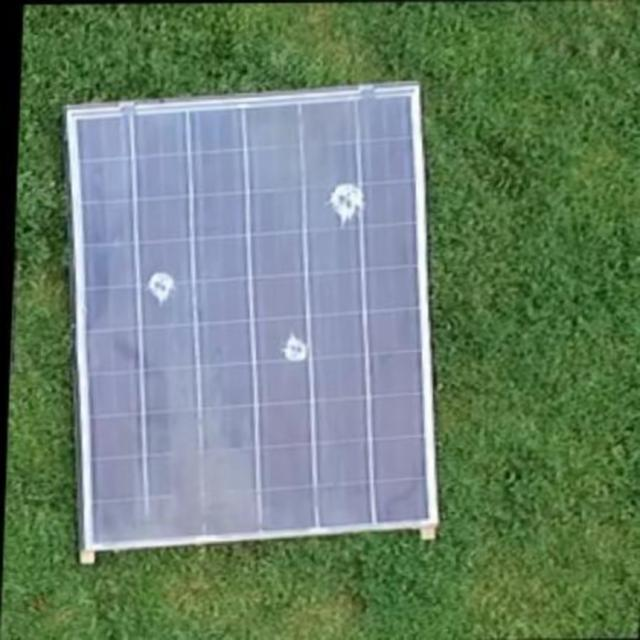soiled: (58, 78, 442, 548)
